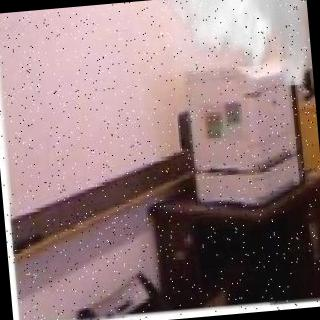smoke: (120, 0, 312, 82)
